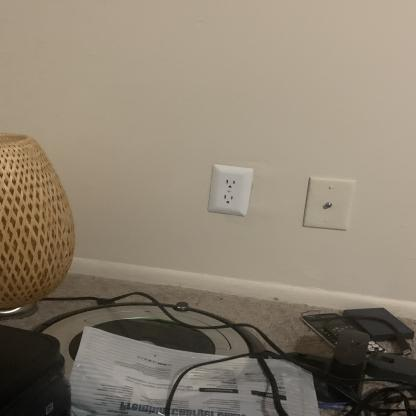OUTLET: (209, 164, 249, 214)
